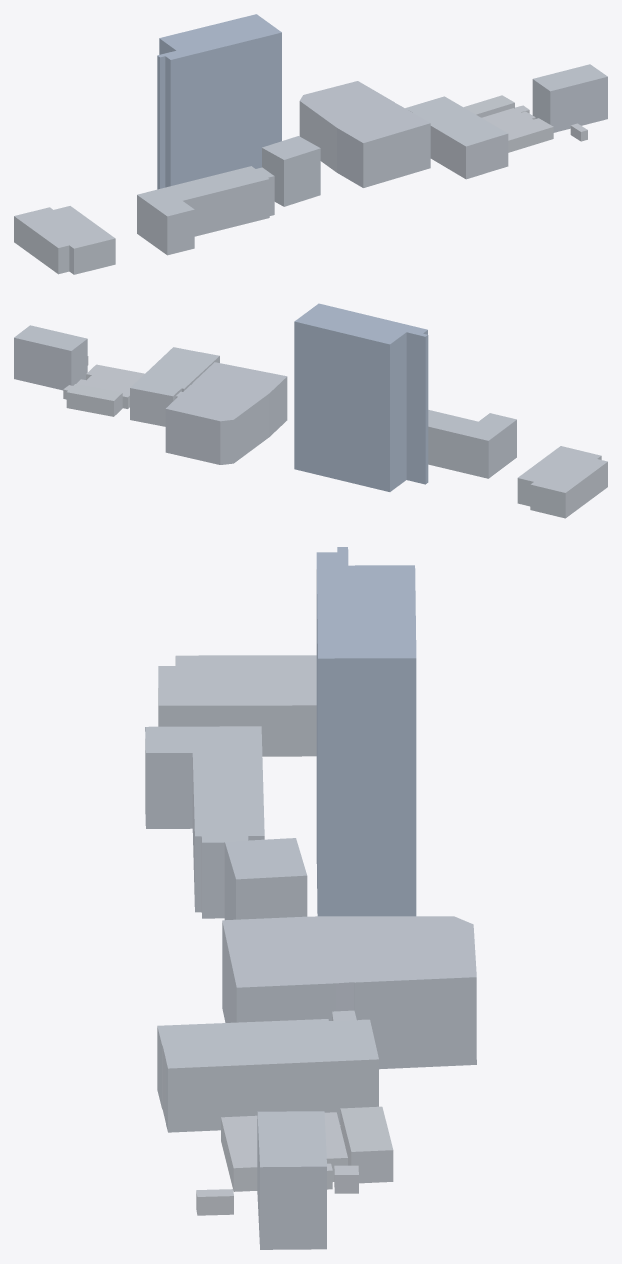
3 renders of one model, top to bottom at view 1: azimuth 30°, elevation 25°; view 2: azimuth 150°, elevation 25°; view 3: azimuth 270°, elevation 25°, orthographic. The views are drawn at different scales.
Size of the model in its own units: 187 by 47.5 by 48.31.
